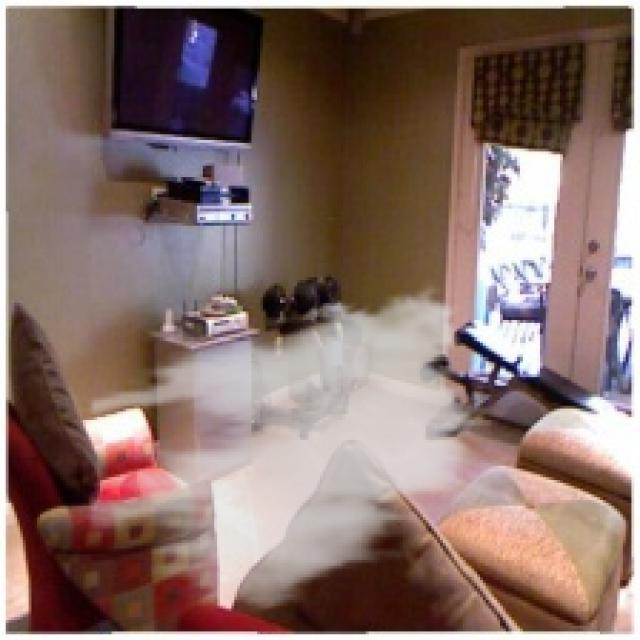smoke: (89, 277, 492, 620)
